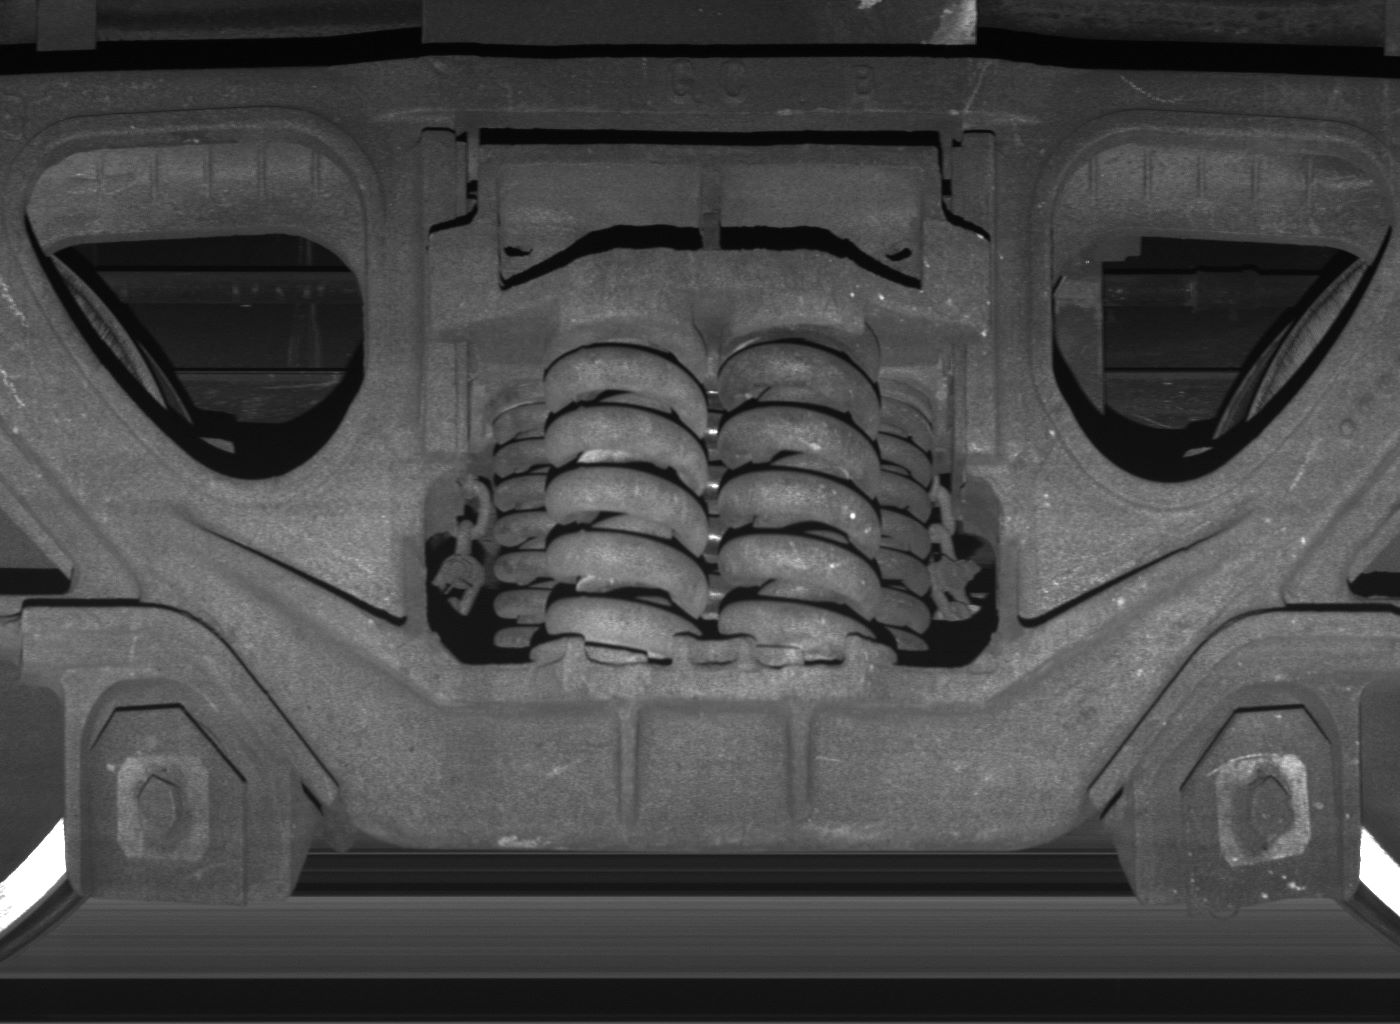Locking plate: (1135, 684, 1361, 917)
normal: (65, 672, 292, 907)
